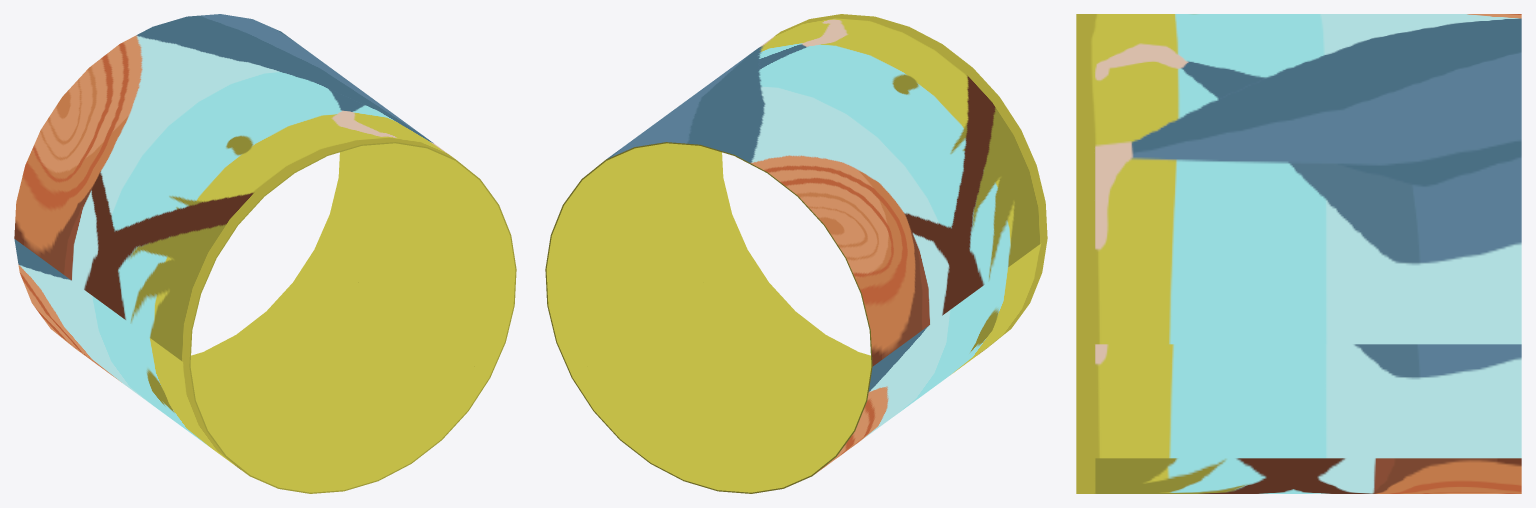
File: Level 173 roll zippo lighter.fbx
The picture shows the model from 3 angles, left to right: view 1: azimuth 30°, elevation 25°; view 2: azimuth 150°, elevation 25°; view 3: azimuth 270°, elevation 25°; orthographic projection. The views are drawn at different scales.
Visible parts, largest first — view 1: Blend; view 2: Blend; view 3: Blend.
Boxes of the visible parts, x1,y1,x2,y2 form: Blend: [14, 14, 516, 493]; Blend: [545, 14, 1047, 493]; Blend: [1076, 14, 1521, 493].
Size of what is drawn, in the model's own units: 776 by 776 by 718.
